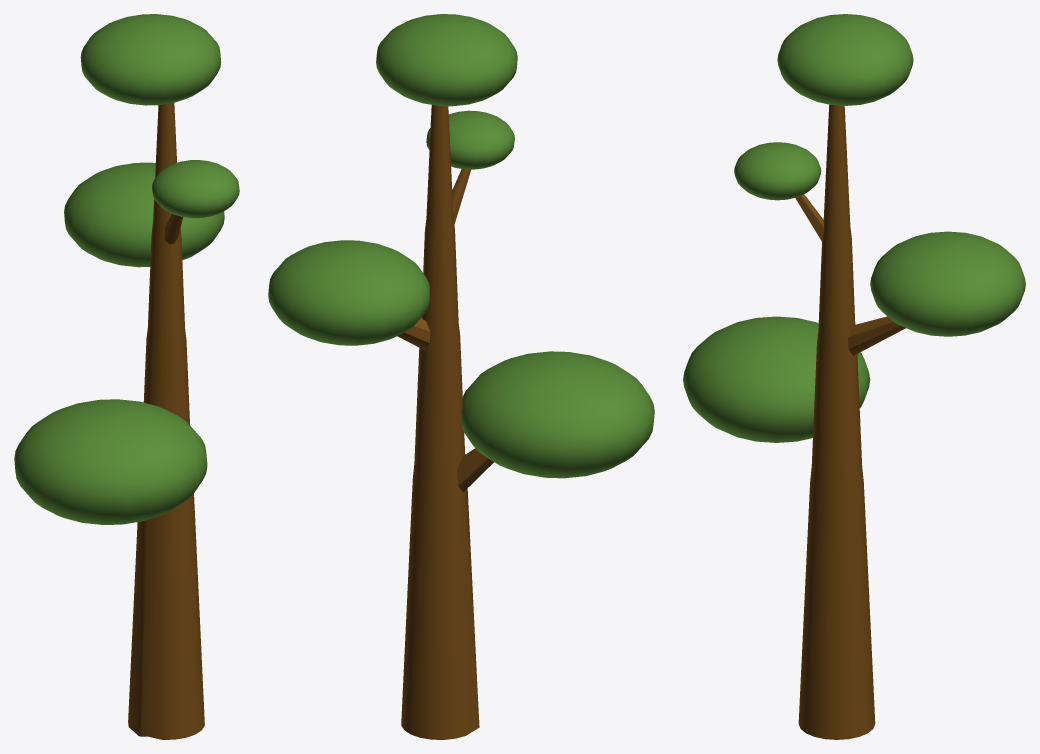
File: Tree.fbx
3 renders of one model, left to right at view 1: azimuth 30°, elevation 25°; view 2: azimuth 150°, elevation 25°; view 3: azimuth 270°, elevation 25°, orthographic.
Parts seen in each view (by area): view 1: tree; view 2: tree; view 3: tree.
Boxes of the visible parts, left/top/right/bottom form: tree: left=14, top=14, right=239, bottom=739; tree: left=268, top=14, right=654, bottom=739; tree: left=683, top=14, right=1025, bottom=739.
Size of the model in its own units: 0.9737 by 2.36 by 1.06.
